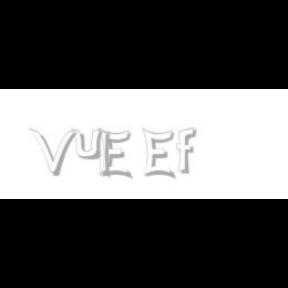E: (98, 128, 132, 180), (142, 128, 174, 180)
V: (29, 128, 77, 176)
f: (176, 128, 200, 174)
l: (98, 128, 114, 180)
u: (72, 128, 106, 160)
